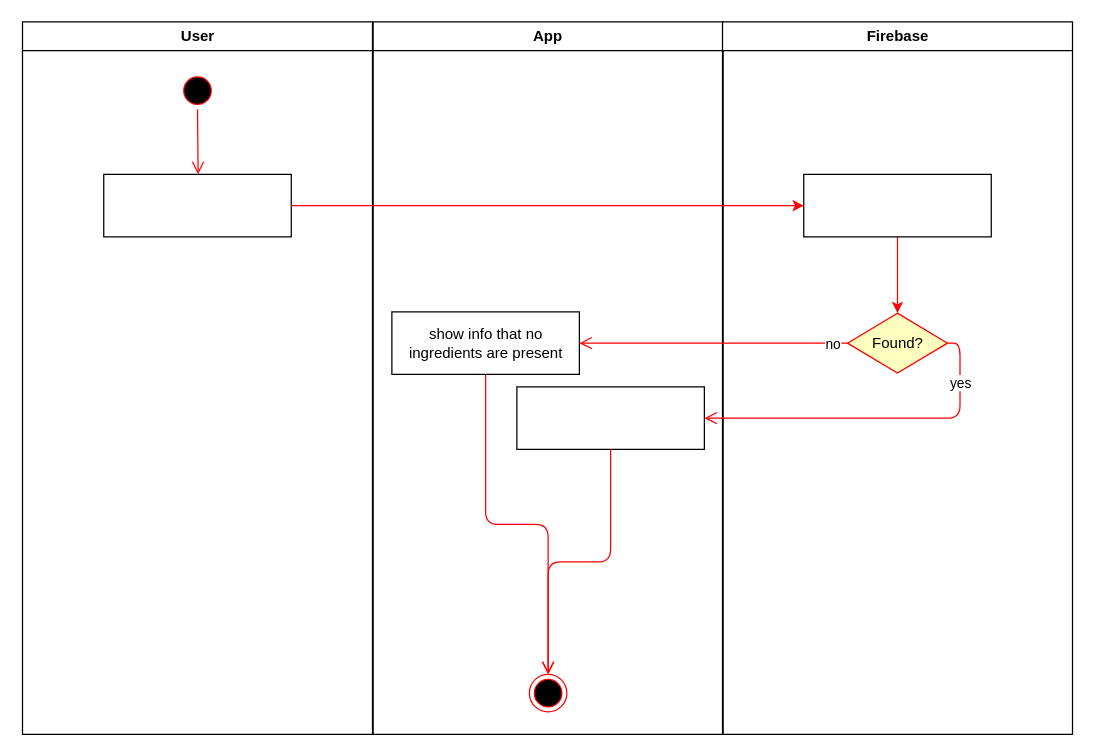
Image size: 1094x756. Some labels were removed from this diagram. The box of each missing label's shape, as (x1, y1, x2, y2) in pixels:
fetch information about ingredients: (802, 173, 991, 237)
list ingredients: (516, 386, 704, 449)
opens product page: (102, 173, 291, 237)
